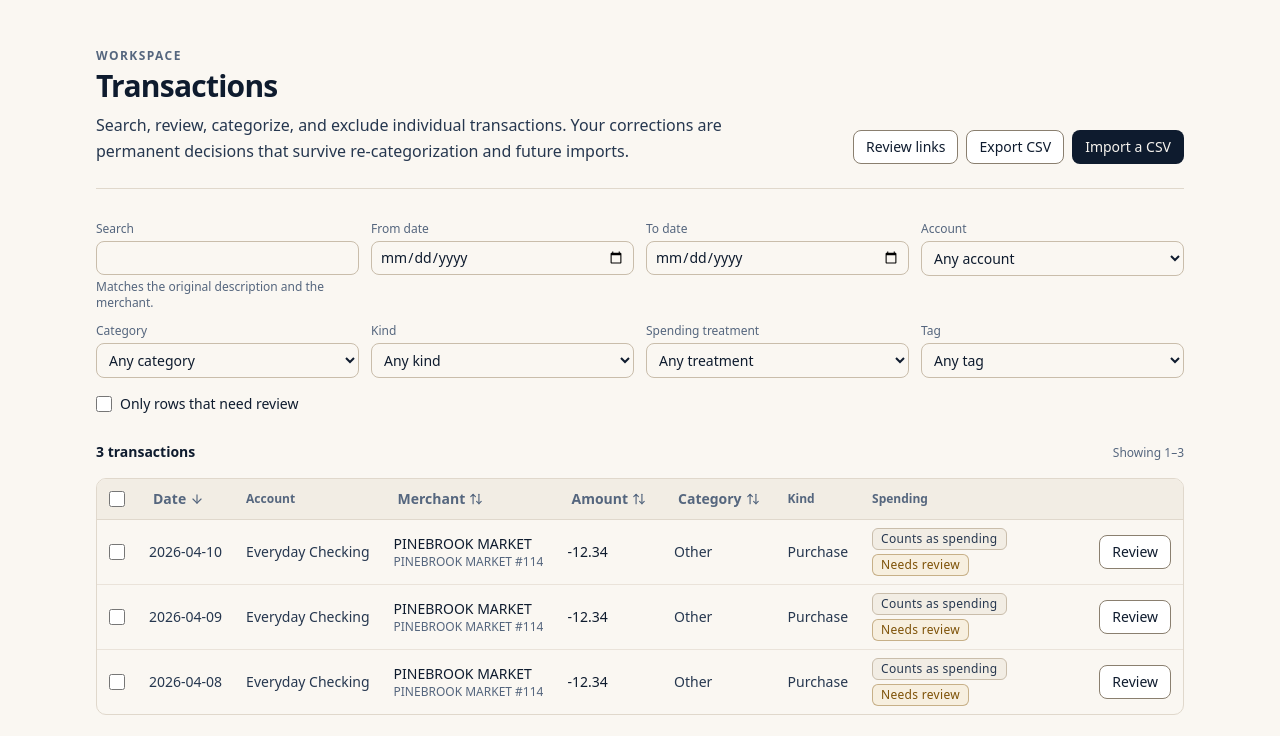
Test: bulk operations › warns that undo does not survive a reload
Expected: the heading "3 transactions" is shown, [96,442,195,462]
Click the checkbox named "Select transaction".
click(117, 552)  # box [109,544,125,560]
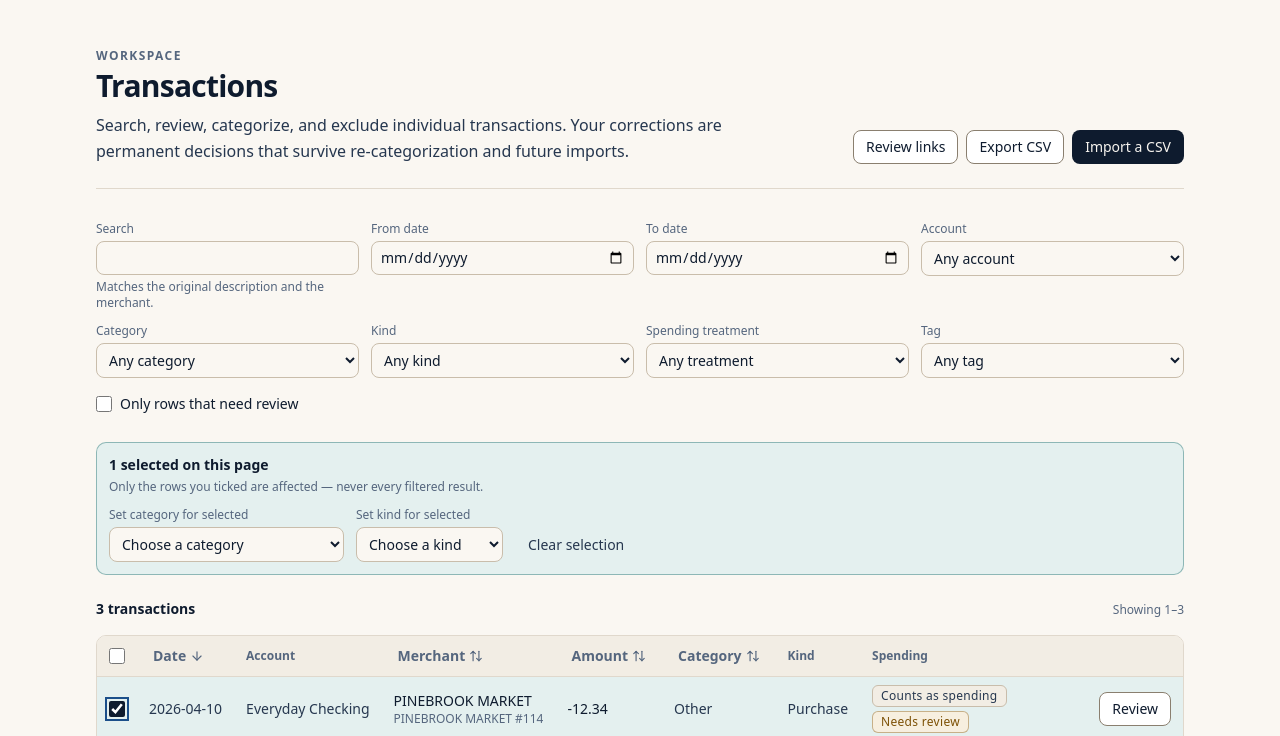
Select "Dining" in the dropdown labelled "Set category for selected" at (226, 544), box [109,527,344,562]
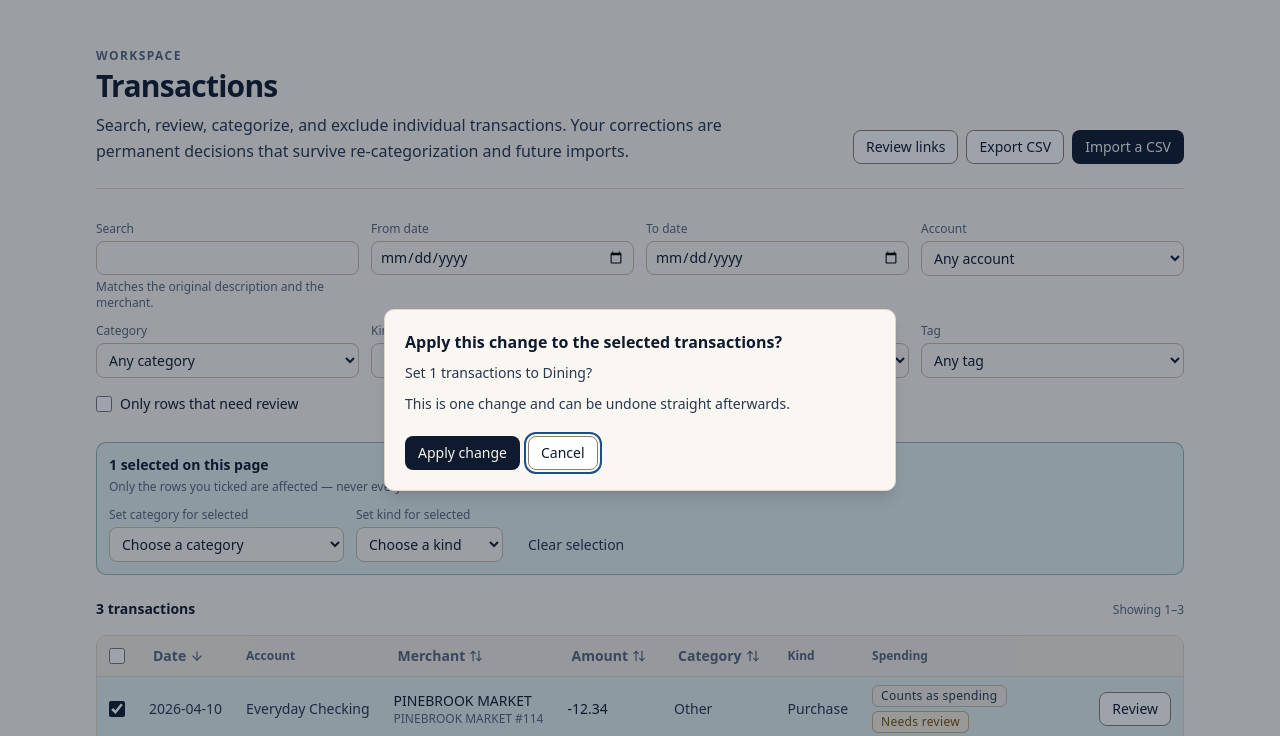
Click the button "Apply change".
click(462, 453)  # box [405,436,520,470]
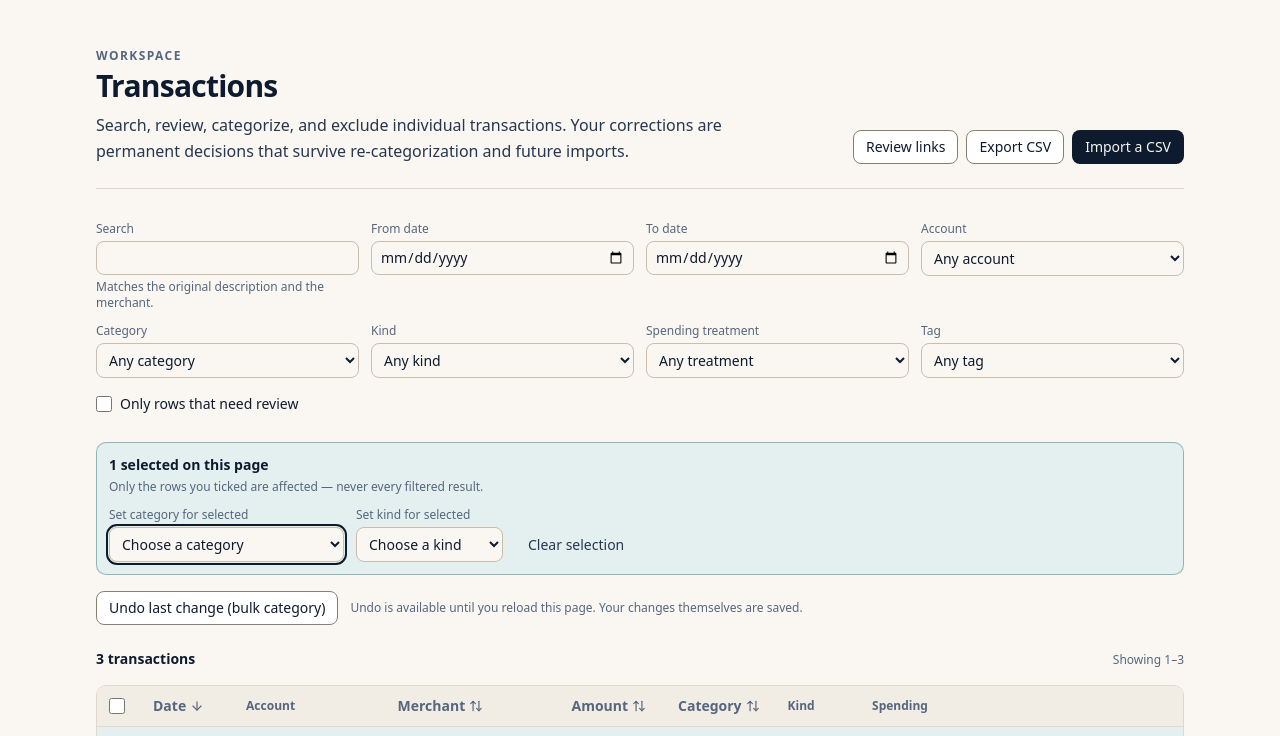
Expected: the text "until you reload this page" is shown, [350,599,803,616]
